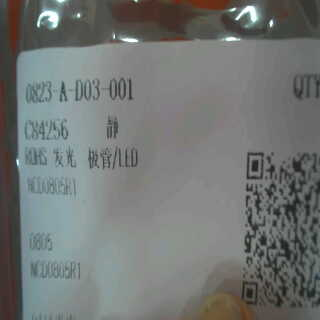LED: (46, 144, 141, 175)
